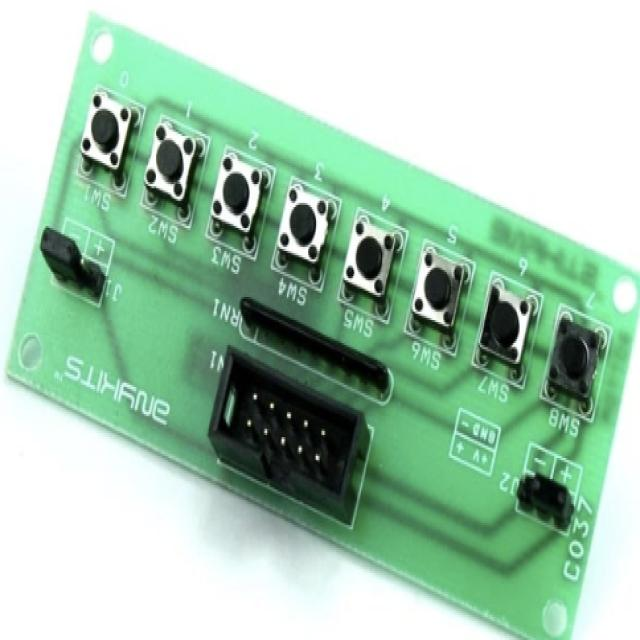switch: (333, 208, 405, 316), (139, 112, 203, 224), (272, 177, 337, 281), (210, 143, 270, 247), (75, 88, 136, 188), (407, 247, 468, 346), (477, 281, 534, 376), (542, 320, 602, 409)
